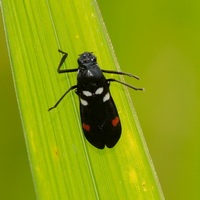insect: (48, 50, 142, 148)
